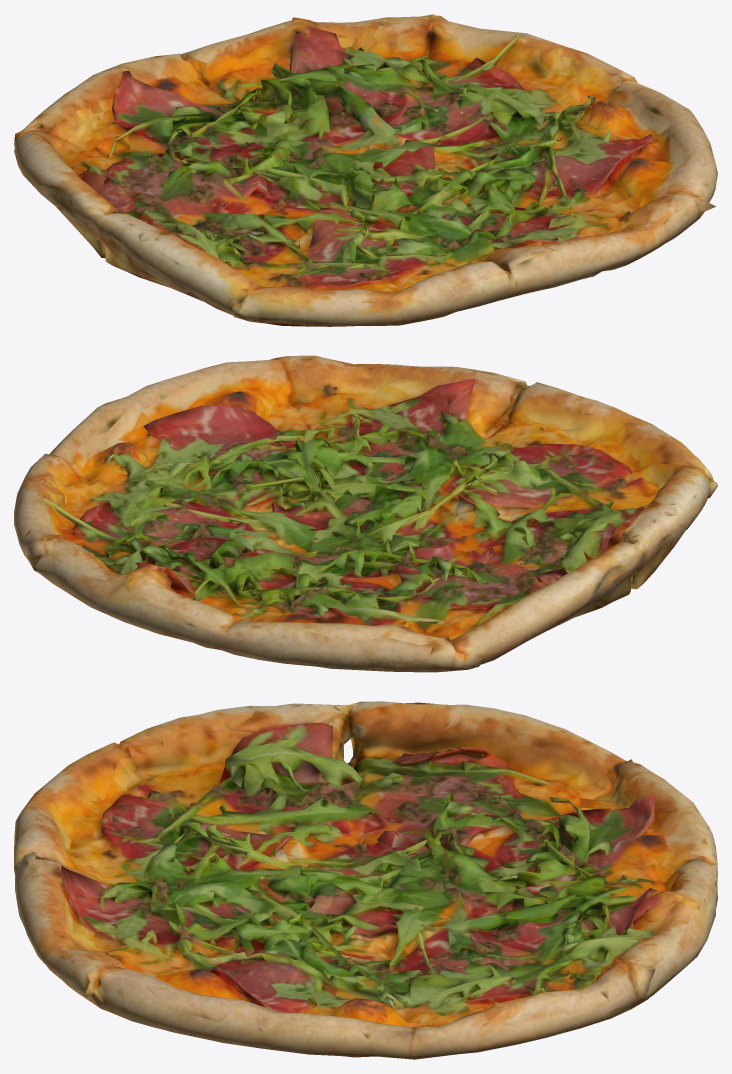
File: PizzaOptimizada2-transformed.glb
The picture shows the model from 3 angles, top to bottom: view 1: azimuth 30°, elevation 25°; view 2: azimuth 150°, elevation 25°; view 3: azimuth 270°, elevation 25°; orthographic projection. The views are drawn at different scales.
Parts seen in each view (by area): view 1: pizza; view 2: pizza; view 3: pizza.
Part boxes in pixels (x1=…): pizza: x1=14, y1=14, x2=717, y2=326; pizza: x1=14, y1=355, x2=717, y2=672; pizza: x1=14, y1=701, x2=717, y2=1059.
Size of the model in its own units: 1.1 by 0.111 by 1.06.
Materials: 1 (1 with a texture image).
